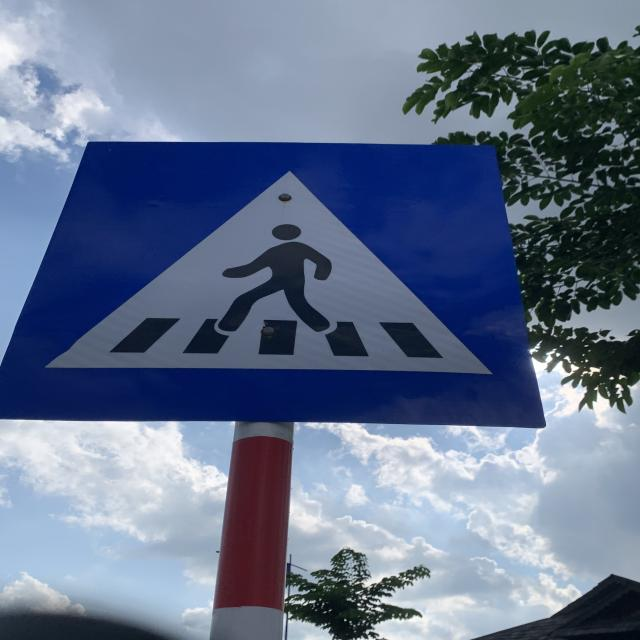Giao_Nhau_Duong_Uu_Tien: (0, 142, 548, 427)
